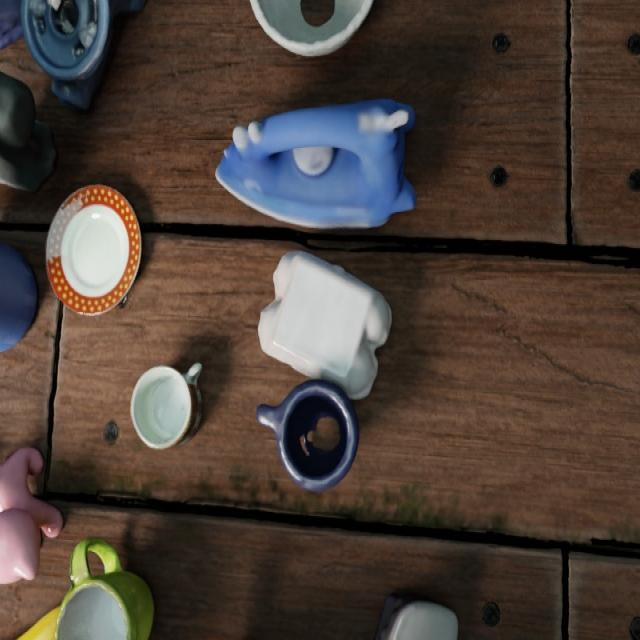Other Objects: (216, 99, 415, 228), (258, 251, 389, 399), (18, 539, 153, 639), (46, 185, 140, 315), (256, 380, 358, 491), (20, 0, 115, 107), (0, 447, 62, 584), (249, 0, 373, 56), (0, 72, 55, 191), (130, 363, 201, 449), (0, 241, 36, 351), (376, 596, 457, 639), (292, 147, 333, 175)
